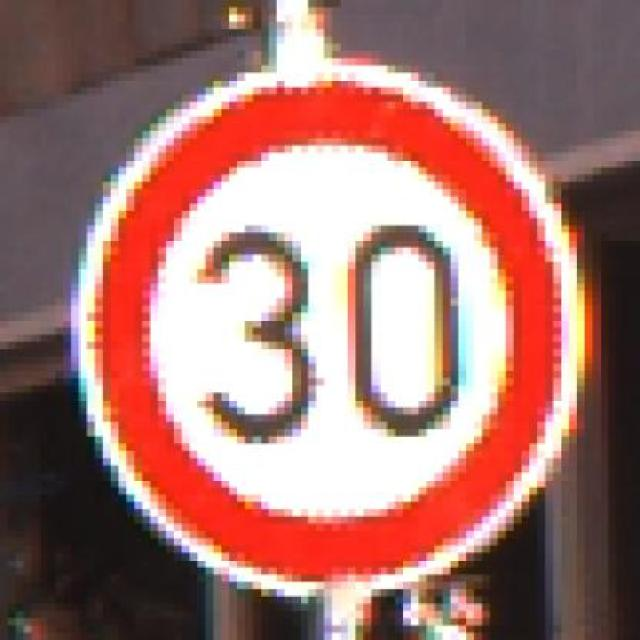Speed Limit 30 KMPh: (32, 51, 616, 611)
